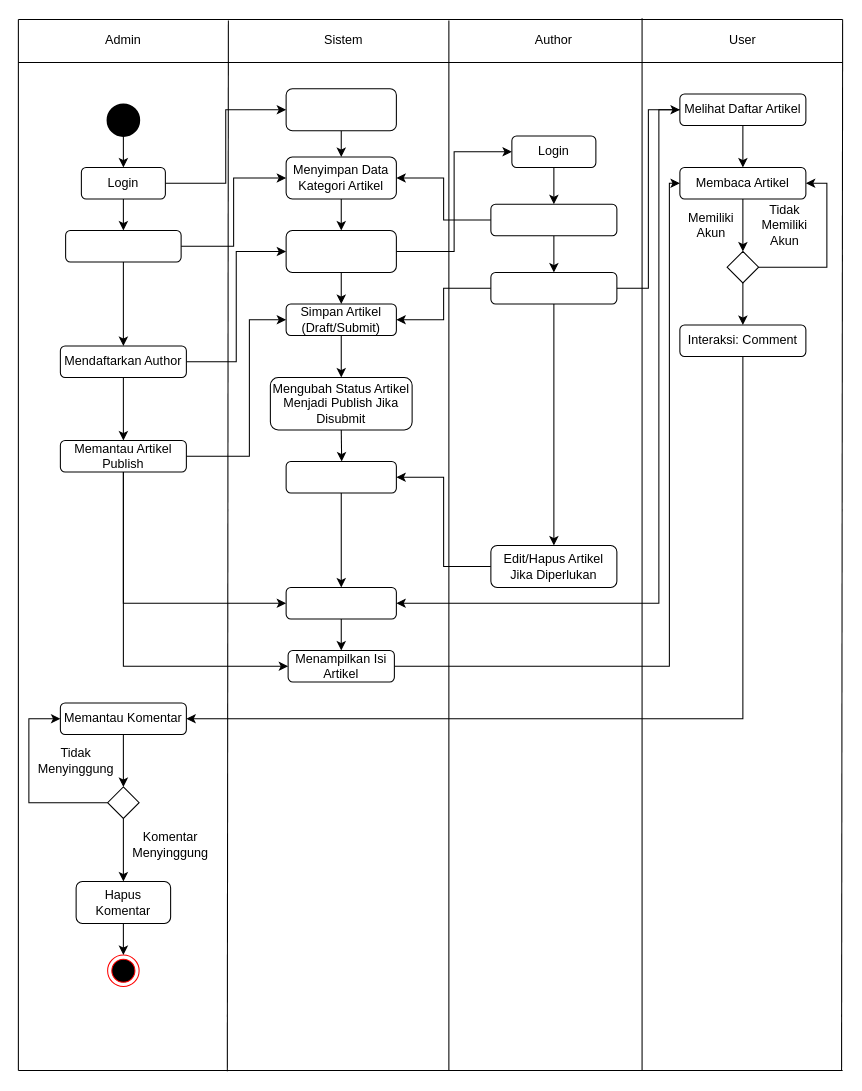
Some shapes in this 862 by 1091 pixel diagram are drawn without their labels. The shapes that lost their labels are listed below. From the top down, each one's centre as x and y in pixels, then its label:
[340,109]: Memverifikasi Login Admin
[553,219]: Membuat Artikel
[123,245]: Membuat Kategori dan Tag Artikel
[340,250]: Menyimpan Data Pendaftaran Author
[553,287]: Submit/Draft
[340,476]: Simpan Perubahan Artikel
[340,602]: Menampilkan Daftar Artikel
